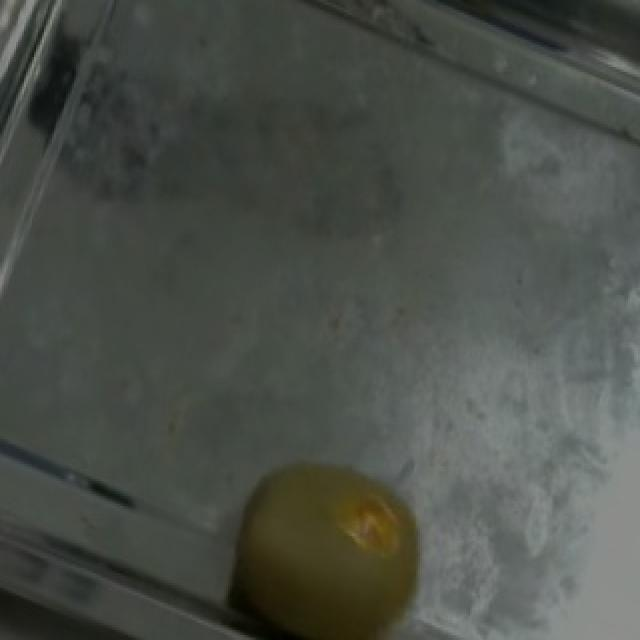Fruit: (192, 424, 460, 640)
